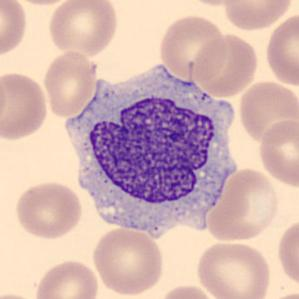Monocyte: (59, 60, 246, 245)
RBC: (204, 165, 282, 244), (90, 225, 166, 296), (157, 12, 229, 81), (193, 238, 274, 299), (191, 31, 260, 98), (12, 179, 85, 240), (45, 0, 120, 57), (236, 78, 298, 145), (41, 48, 100, 118), (0, 69, 50, 143), (256, 117, 298, 189), (262, 10, 298, 90), (32, 258, 100, 299), (220, 0, 295, 31), (0, 0, 30, 60), (275, 214, 298, 291), (157, 282, 218, 299), (180, 0, 253, 7), (7, 0, 78, 7), (0, 69, 8, 130), (259, 289, 298, 299), (0, 290, 43, 299)
